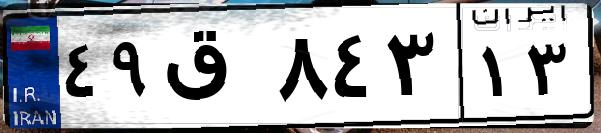1: (475, 38, 525, 113)
3: (385, 28, 445, 110), (525, 38, 570, 115)
4: (330, 28, 385, 110), (57, 26, 110, 100)
8: (270, 28, 330, 110)
9: (110, 28, 158, 98)
ق: (158, 20, 270, 120)
